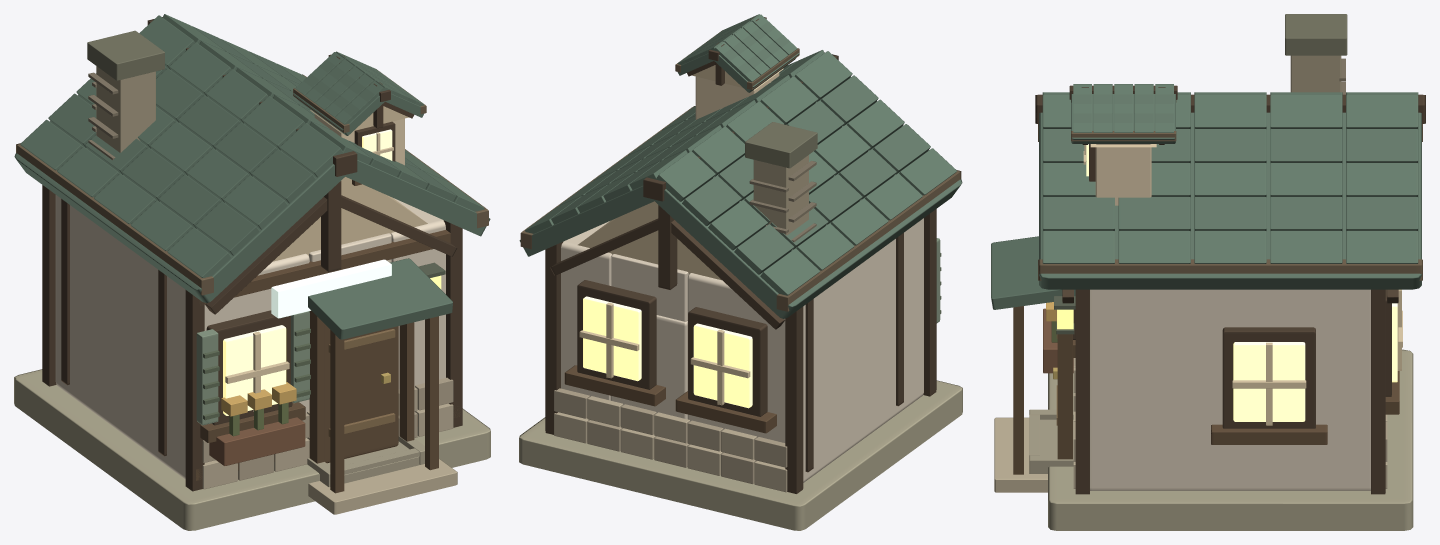
Rendered from workshop-0-1.glb.
3 renders of one model, left to right at view 1: azimuth 30°, elevation 25°; view 2: azimuth 150°, elevation 25°; view 3: azimuth 270°, elevation 25°, orthographic. The views are drawn at different scales.
Parts seen in each view (by area): view 1: workshop-1-0, door-hinge; view 2: workshop-1-0; view 3: workshop-1-0.
Part boxes in pixels (x1,y1,x2,y2): workshop-1-0: (14,14,490,530); door-hinge: (324,324,398,463); workshop-1-0: (519,14,962,530); workshop-1-0: (991,14,1425,530).
Size of the model in its own units: 1.88 by 2.26 by 2.24.
